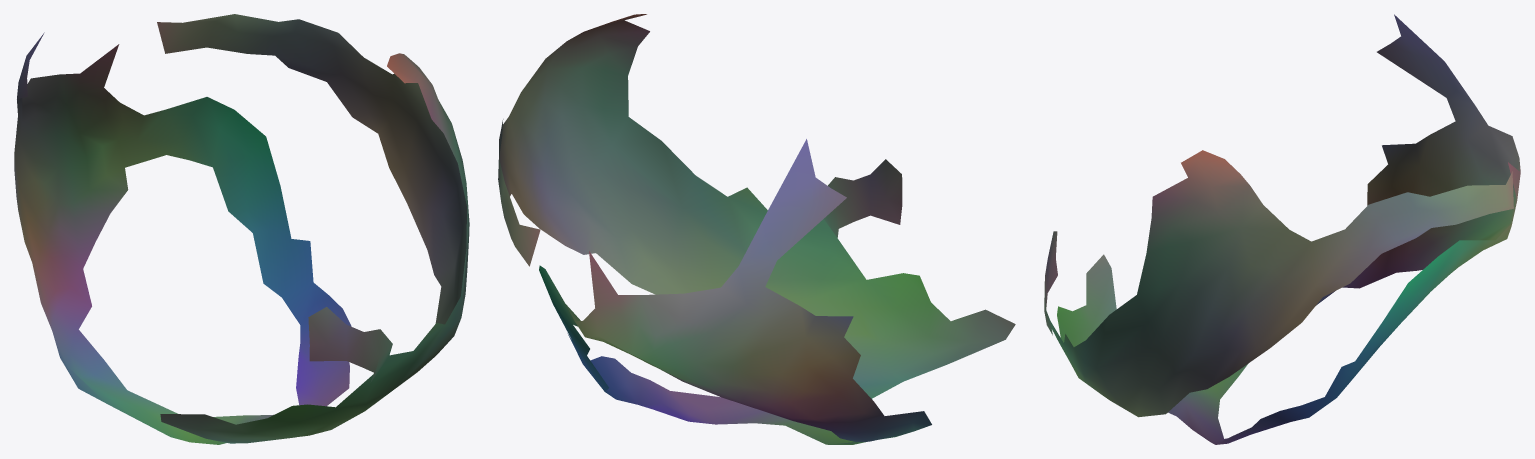
Rendered from space-nebulae-nebula_v62.glb.
3 views of the same model, side by side, from view 1: azimuth 30°, elevation 25°; view 2: azimuth 150°, elevation 25°; view 3: azimuth 270°, elevation 25° (orthographic). The views are drawn at different scales.
Parts seen in each view (by area): view 1: Nebula_v62; view 2: Nebula_v62; view 3: Nebula_v62.
Boxes of the visible parts, box(x1,y1,x2,y2) form: Nebula_v62: box(14, 14, 469, 444); Nebula_v62: box(498, 14, 1015, 444); Nebula_v62: box(1044, 14, 1520, 444).
Size of the model in its own units: 0.4302 by 0.4002 by 0.5.
